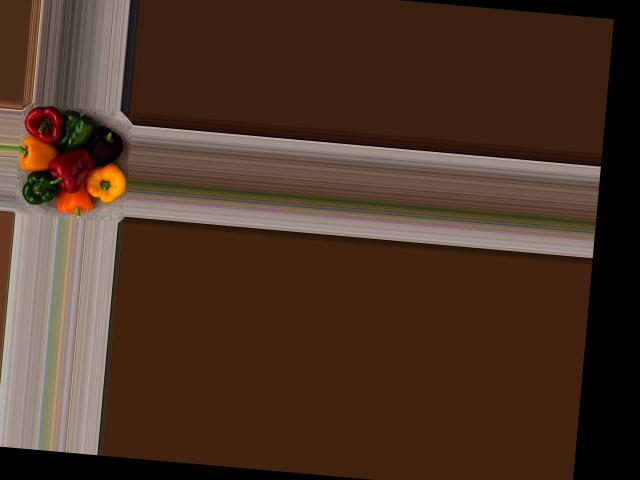bell_pepper: (77, 115, 123, 168)
